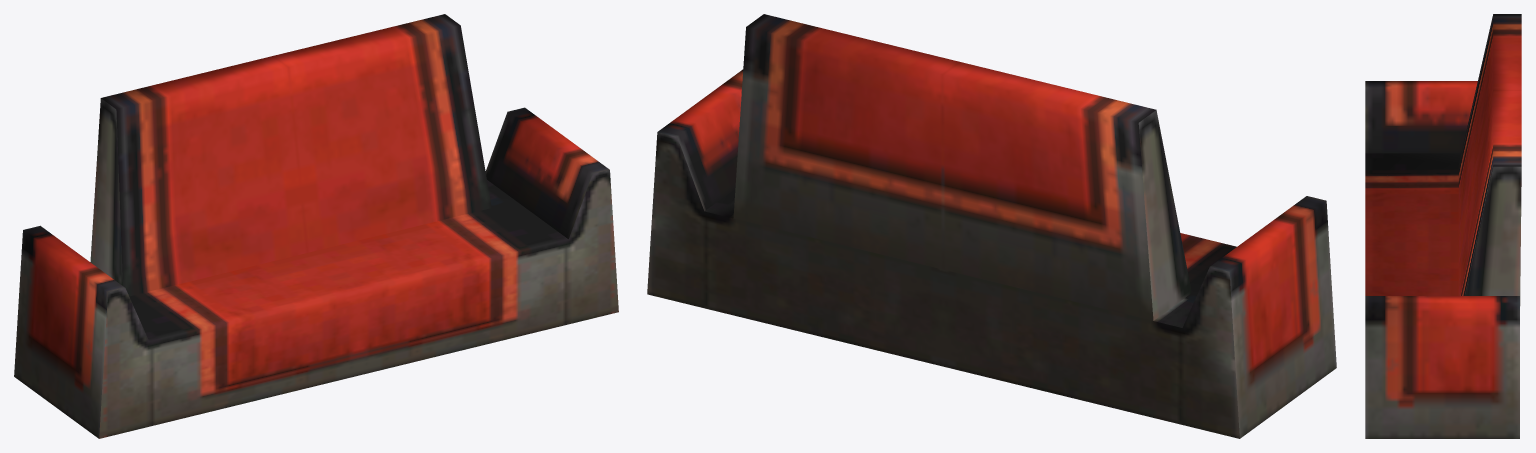
Rendered from frn_all_couch_lg_s1_l2.fbx.
3 views of the same model, side by side, from view 1: azimuth 30°, elevation 25°; view 2: azimuth 150°, elevation 25°; view 3: azimuth 270°, elevation 25° (orthographic). The views are drawn at different scales.
Visible parts, largest first — view 1: mesh_node; view 2: mesh_node; view 3: mesh_node.
Boxes of the visible parts, <box> form: mesh_node: <box>14,14,618,438</box>; mesh_node: <box>647,14,1336,438</box>; mesh_node: <box>1365,14,1521,438</box>.
Size of the model in its own units: 2.4 by 1.13 by 0.6889.
